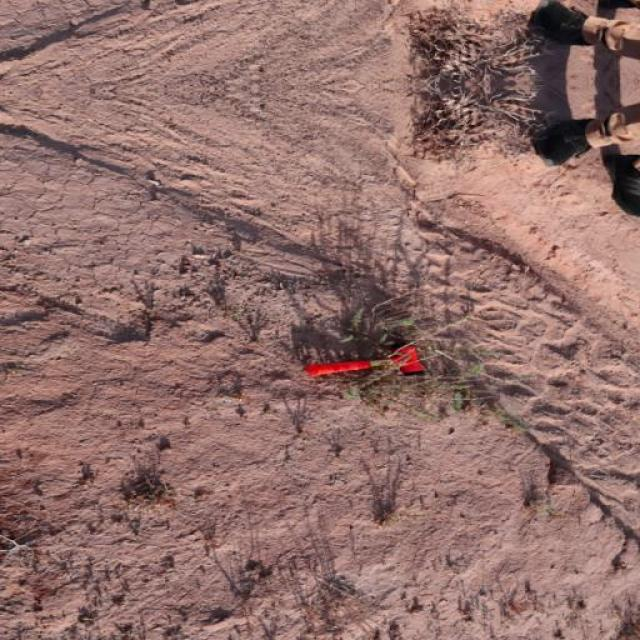mallet: (304, 342, 428, 378)
